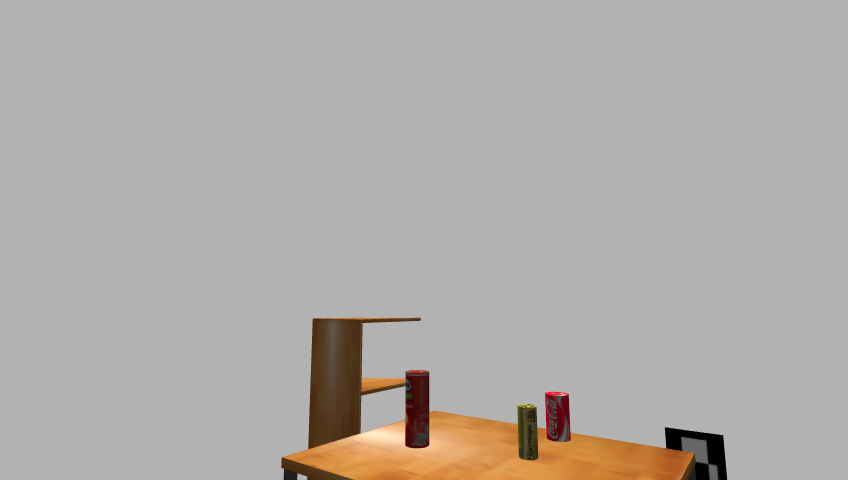aruco marker: (660, 426, 734, 480)
biscuits pack: (516, 405, 539, 461)
bookshelf: (294, 314, 426, 480)
coke can: (543, 391, 572, 443)
dinner table: (275, 411, 703, 480)
pringles can: (402, 369, 432, 450)
